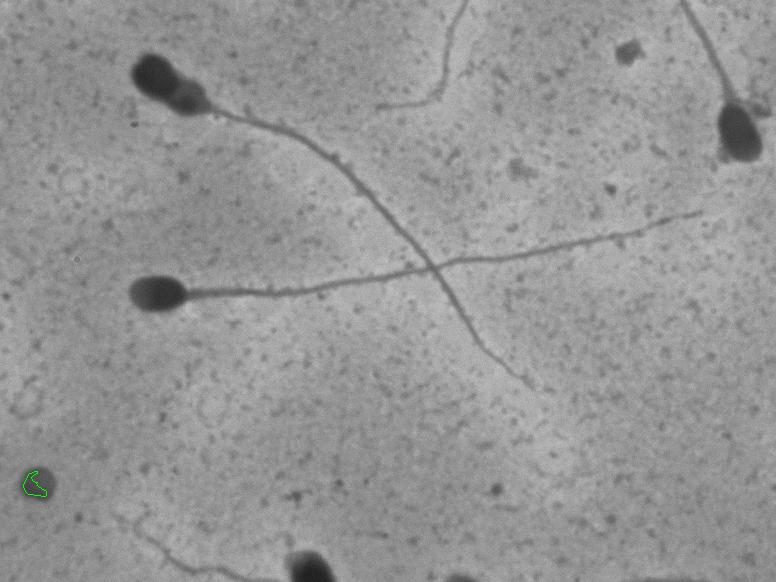Abnormal: (112, 31, 551, 409)
Normal: (62, 184, 712, 349)
